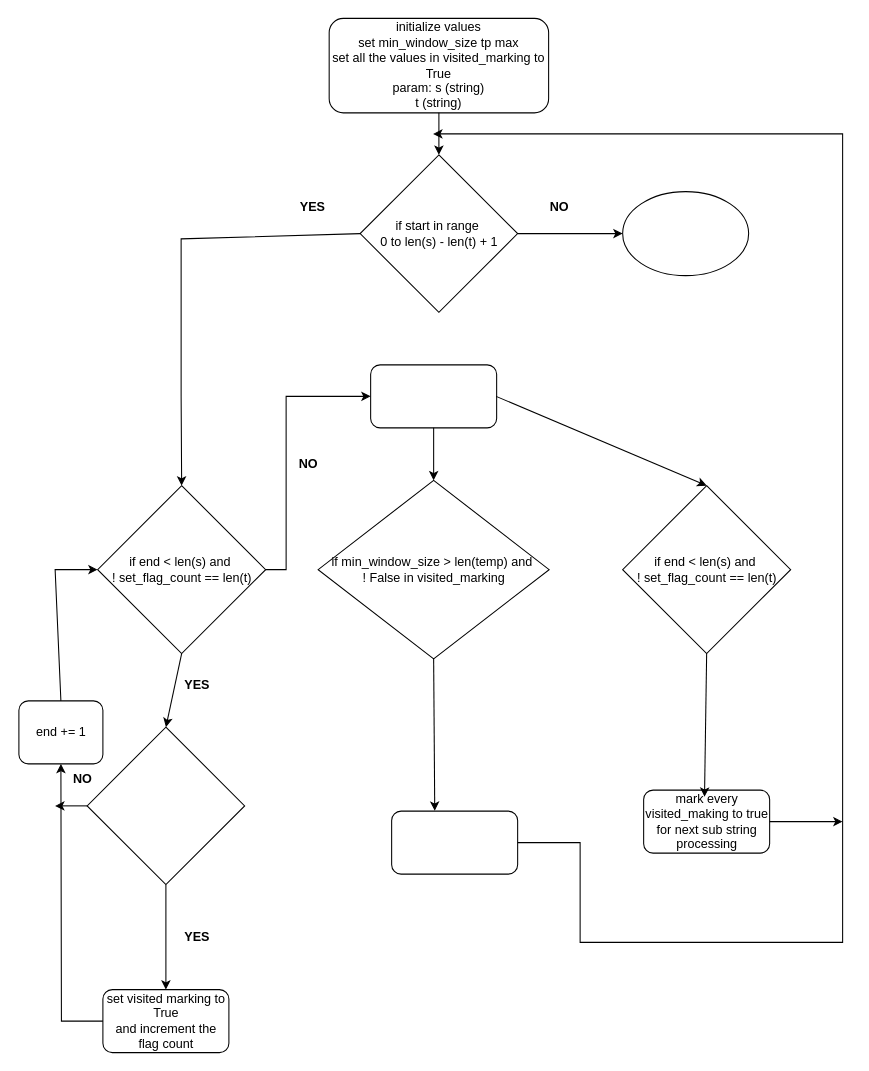
Image size: 869x1071. Some labels were removed from this diagram. The shapes that lost their labels are listed below. From the top down, each one's centre as x and y in pixels, then its label:
At point (685, 233): "return answer".
At point (433, 396): "create temp temp = s[start:end]".
At point (165, 805): "if s[end] in t and !visited_marking[s[end]]".
At point (454, 842): "answer = temp max_window_size = len(answer)".
